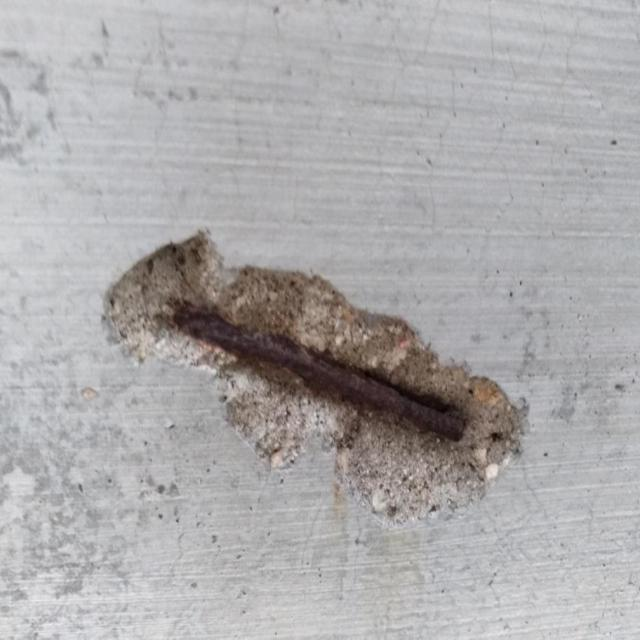Rebar: (103, 228, 531, 524)
multi-branched crack: (135, 0, 638, 225)
